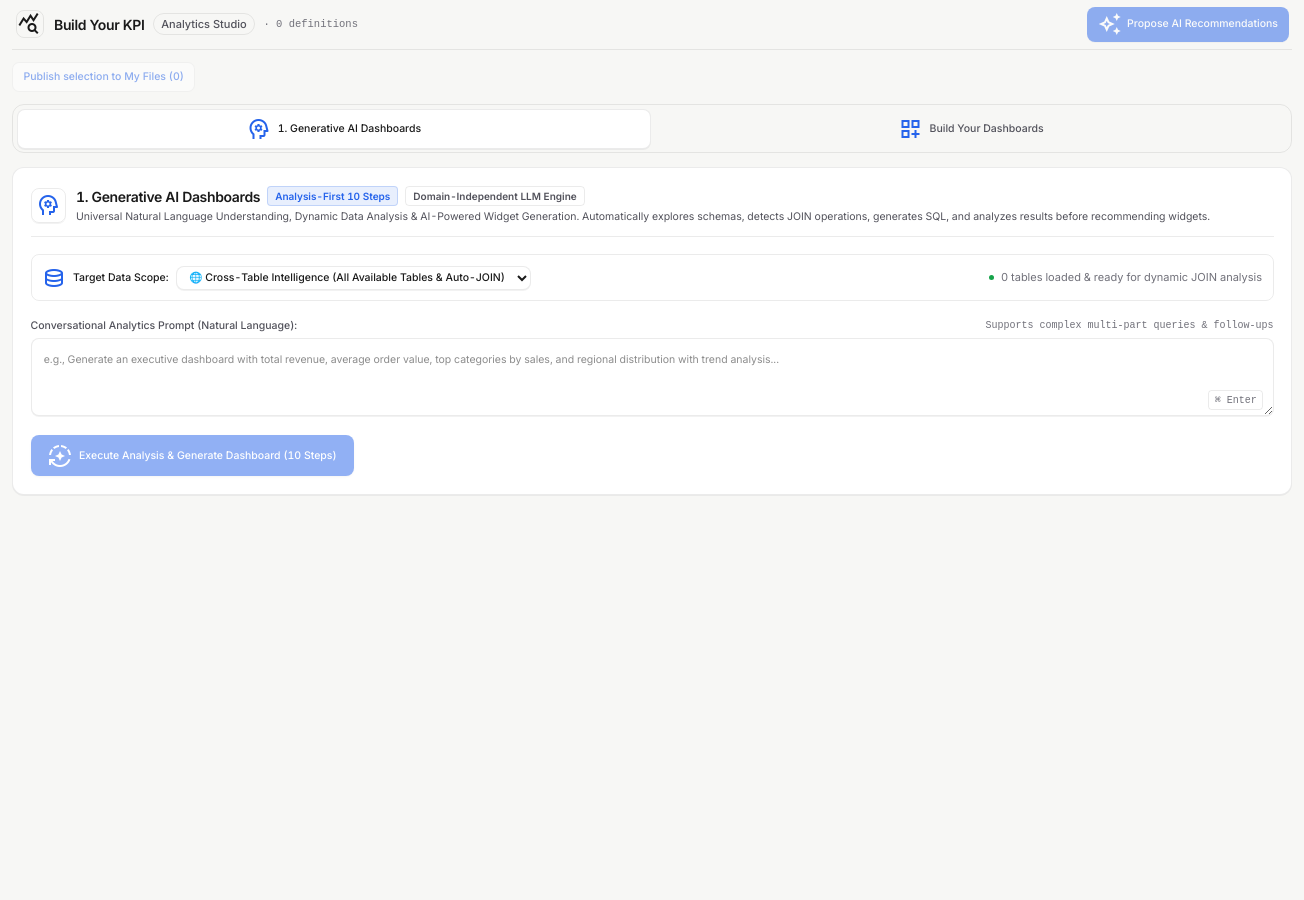
Generative AI Dashboards (10-Step Analysis-First Workflow) › executes analysis and handles recommendation preview: empty dashboard
Expected: the text "Universal Natural Language Understanding" is shown, x1=76 y1=210 x2=1210 y2=223
Replace the text in the text box with placeholder "Generate an executive dashboard" with "Show revenue and average order by region" at {"x": 652, "y": 377}, box x1=30 y1=338 x2=1274 y2=416
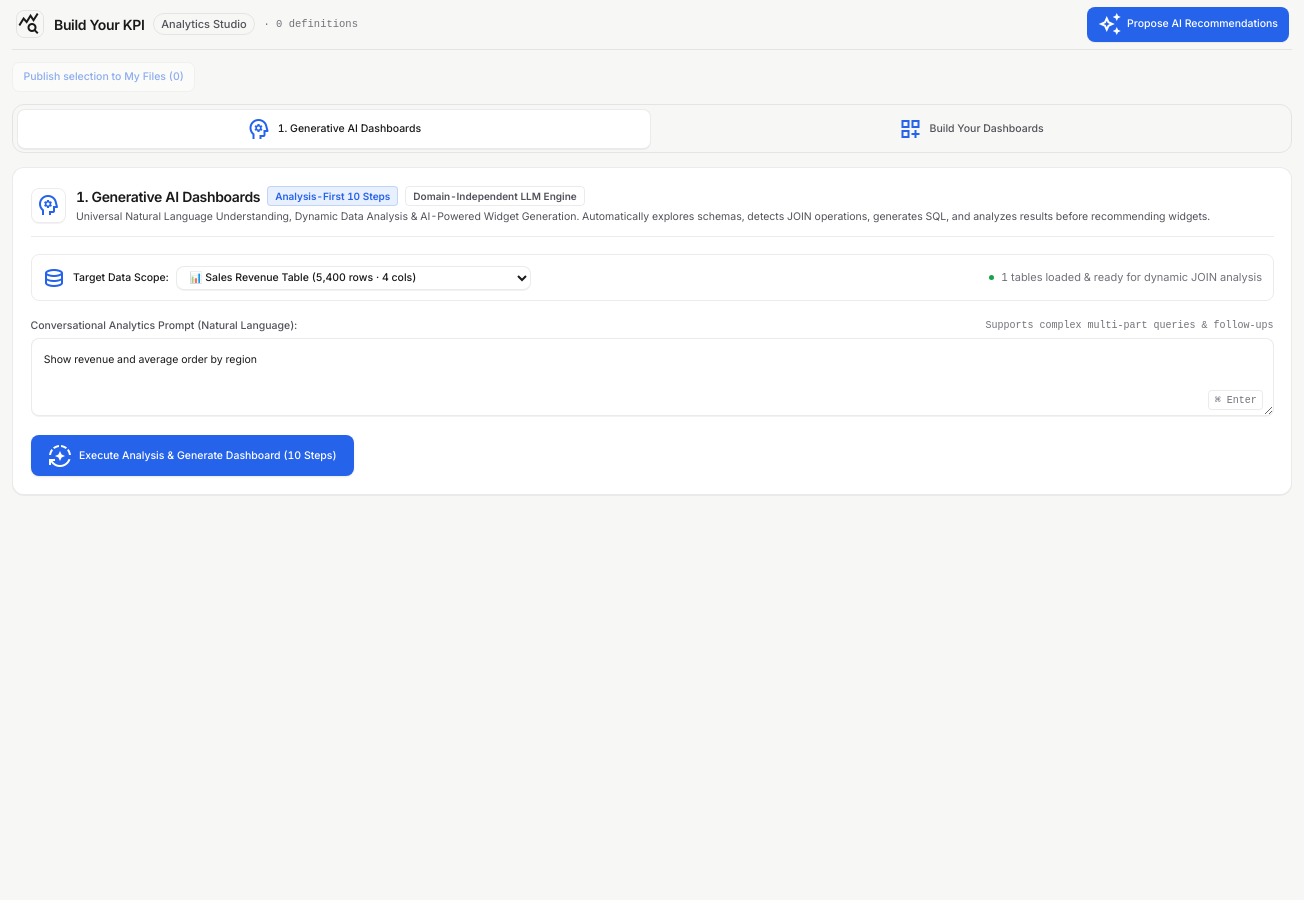
Click the button "Execute Analysis & Generate Dashboard (10 Steps)" at {"x": 192, "y": 456}, box x1=30 y1=435 x2=354 y2=476
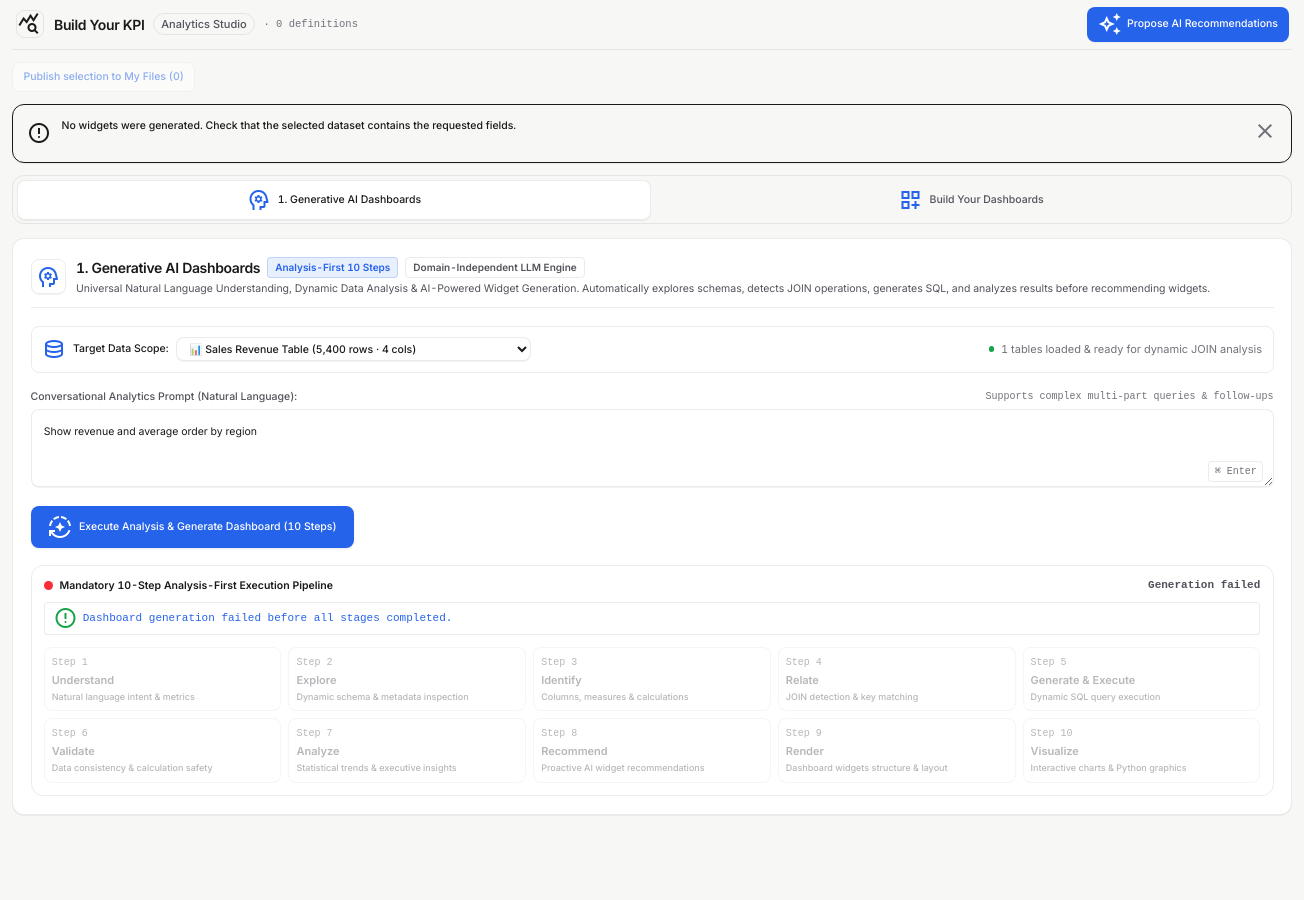
Expected: the text "Mandatory 10-Step Analysis-First Execution Pipeline" is shown, x1=60 y1=579 x2=333 y2=593
Expected: the text "No widgets were generated" is shown, x1=62 y1=119 x2=516 y2=132
